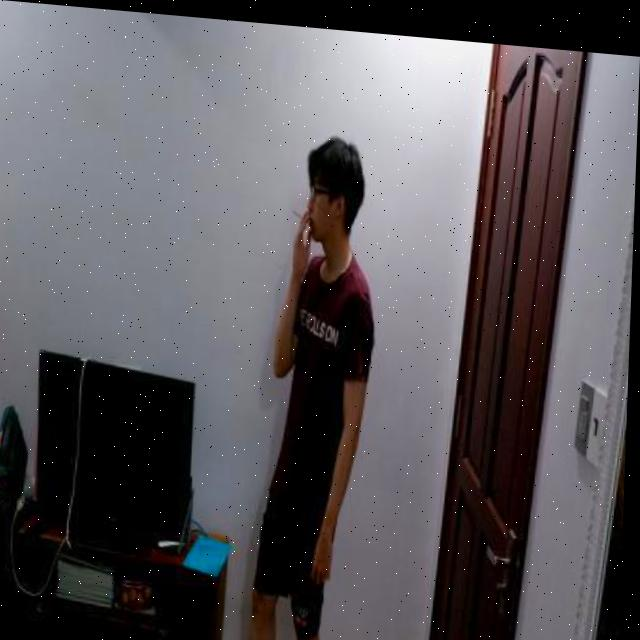cigarette: (294, 204, 305, 214)
